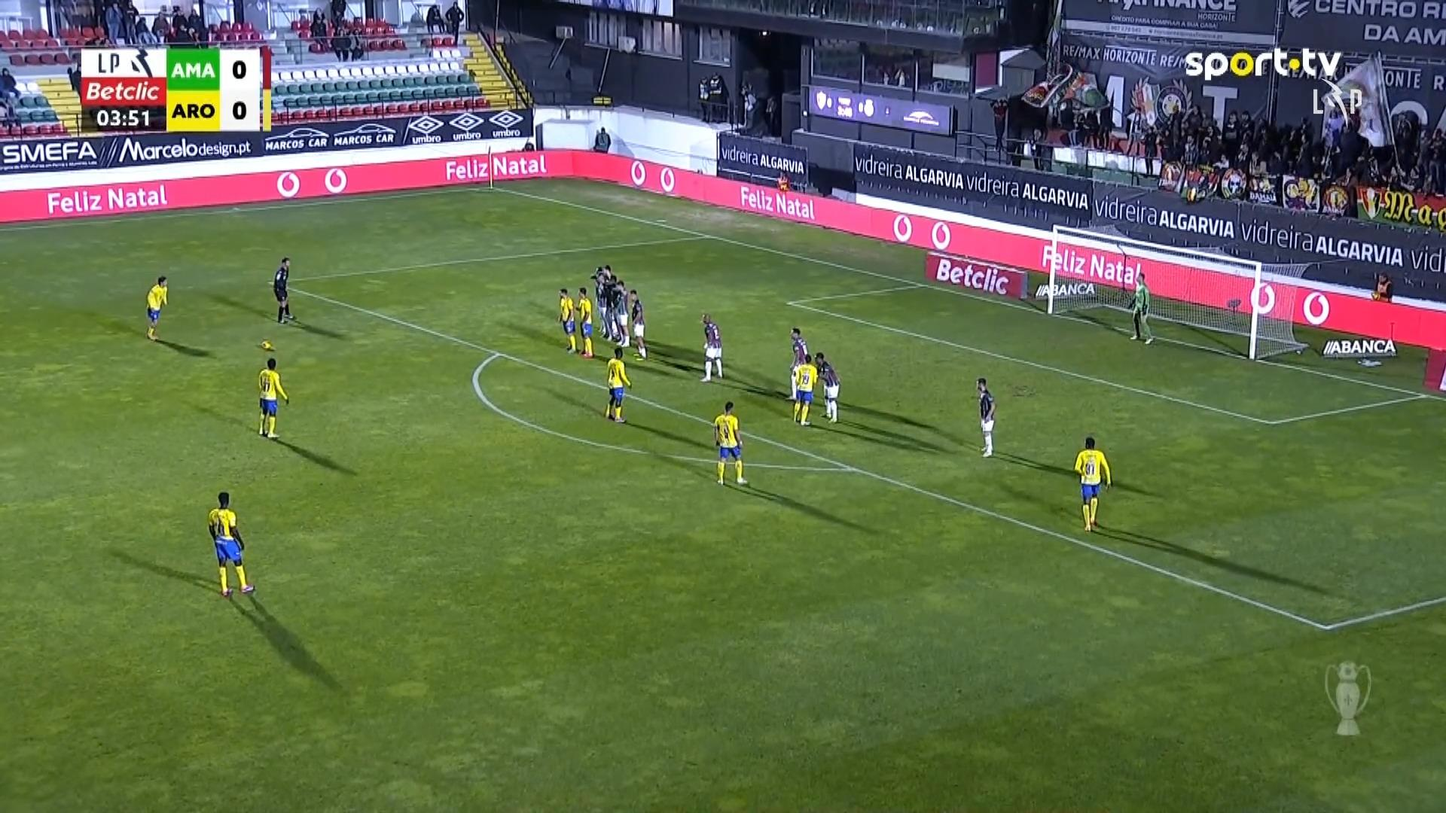ball: (261, 340, 273, 351)
goalkeeper: (1127, 272, 1154, 344)
player: (206, 490, 255, 598), (1072, 435, 1112, 531), (712, 400, 749, 486), (257, 357, 289, 438), (604, 346, 631, 423), (791, 353, 817, 426), (814, 352, 840, 422), (975, 376, 996, 457), (700, 312, 723, 382), (788, 327, 810, 399), (145, 275, 169, 340), (609, 279, 630, 348), (575, 286, 595, 358), (627, 288, 647, 359), (557, 288, 577, 354)
referee: (272, 257, 295, 324)
